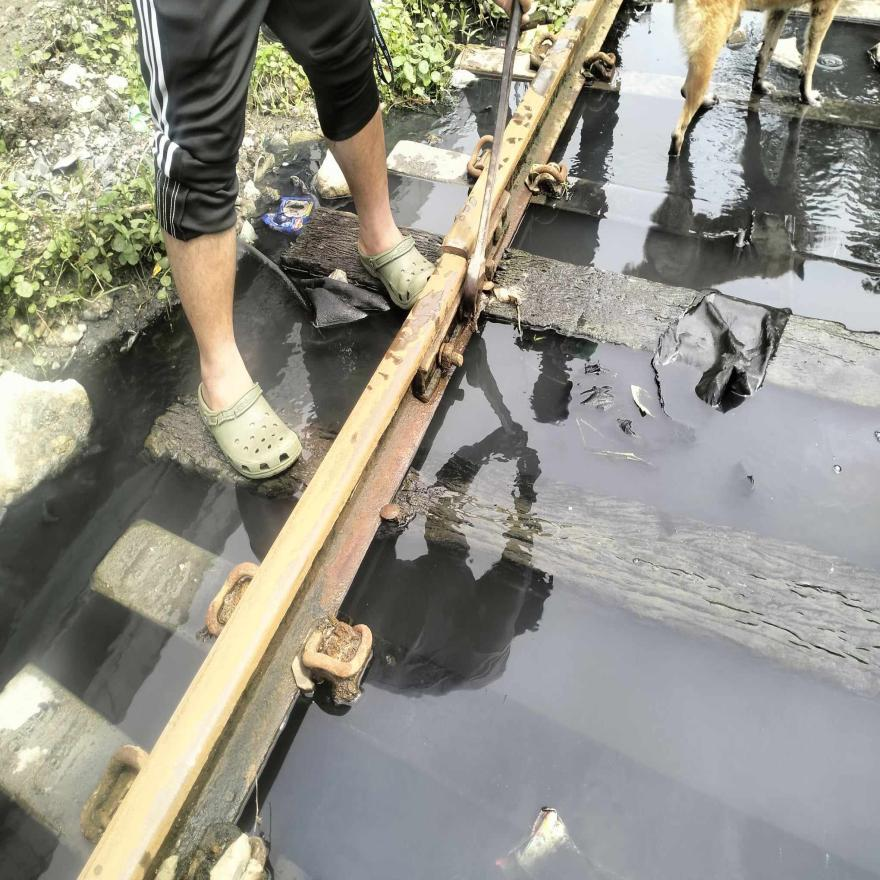railway-gap: (429, 218, 479, 285)
